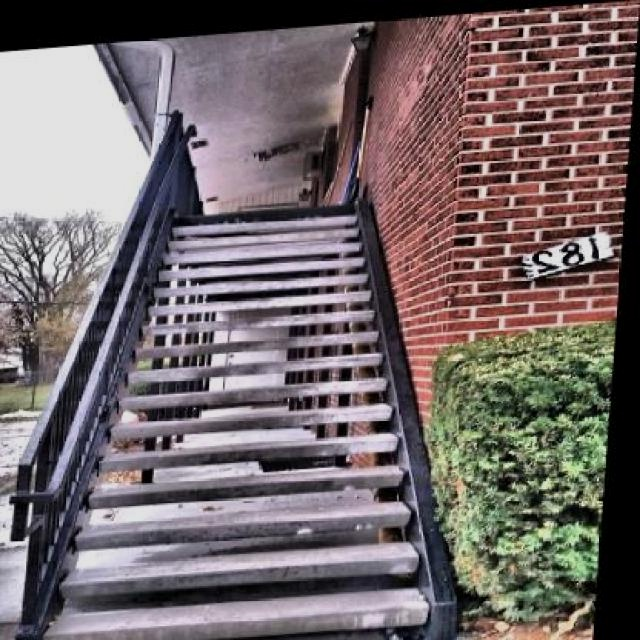stair: (1, 125, 495, 639)
